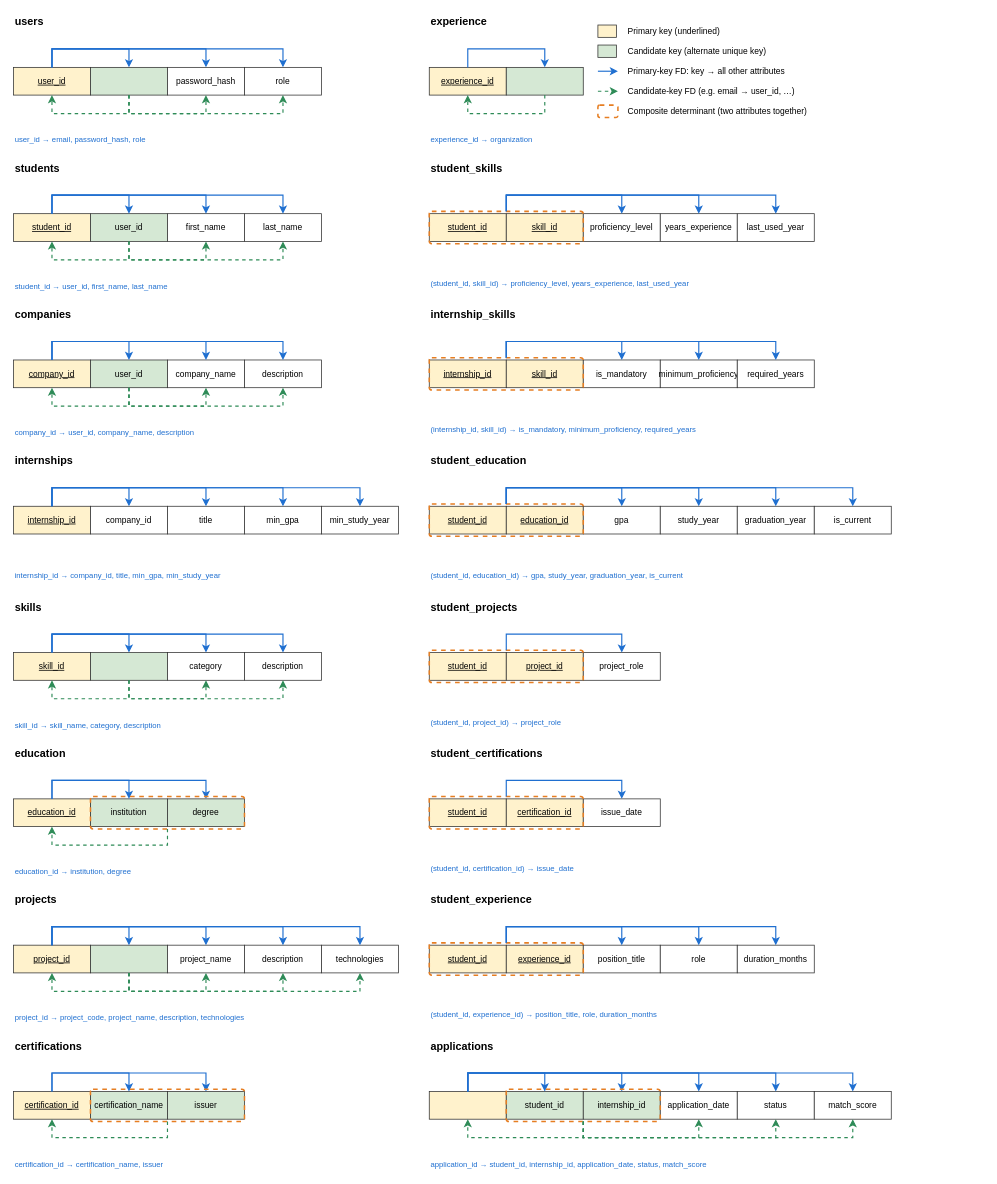
Some shapes in this 997 by 1184 pixel diagram are drawn without their labels. Here are the shapes that lost their labels. From the top down, the box of each, then its label:
(90, 67, 167, 95): email
(506, 67, 583, 95): organization
(90, 652, 167, 680): skill_name
(90, 944, 167, 973): project_code
(429, 1091, 506, 1119): application_id
